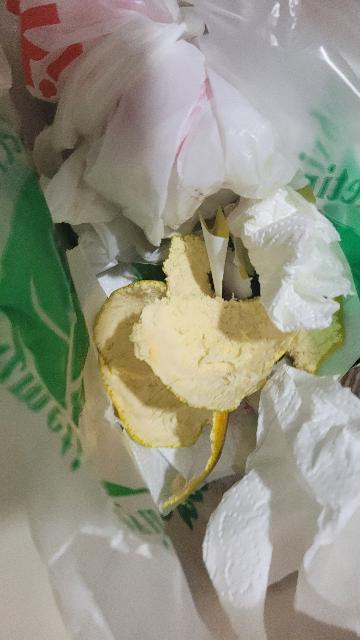Kagit: (227, 363, 360, 640), (229, 187, 360, 340)
Organik: (87, 227, 279, 455)
Plastik: (2, 0, 360, 216)
